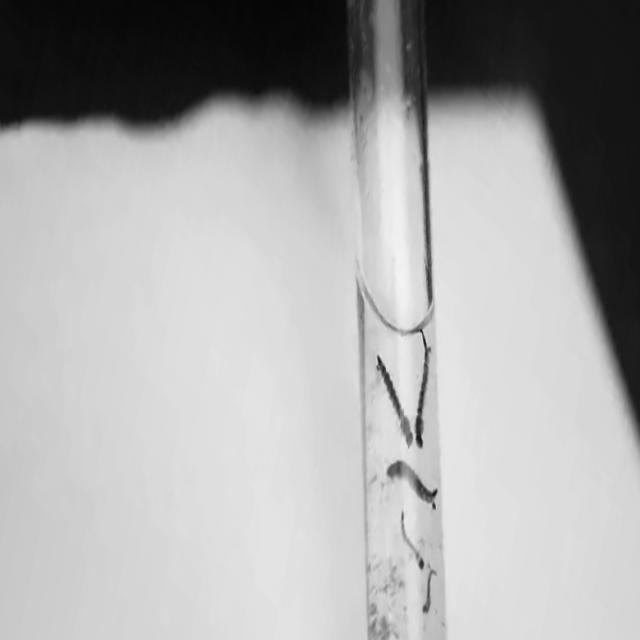larvas: (374, 359, 414, 445), (389, 460, 436, 506), (414, 332, 432, 443), (402, 514, 424, 567), (424, 568, 435, 614)
